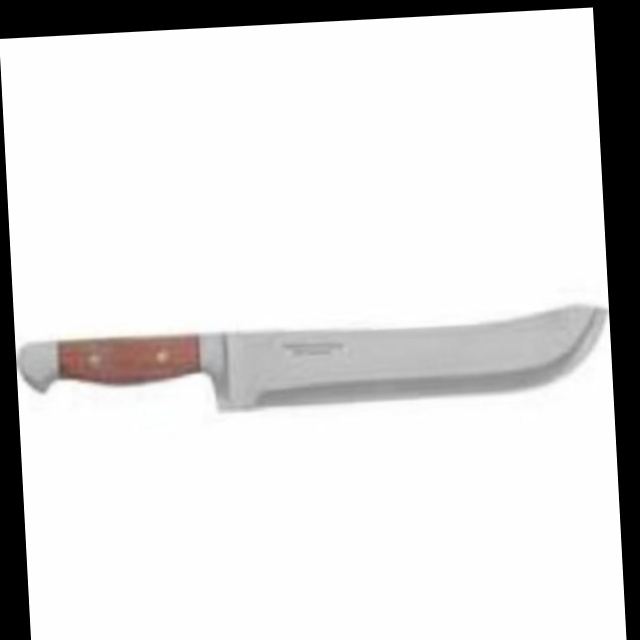Sharp-Object: (16, 304, 612, 419)
